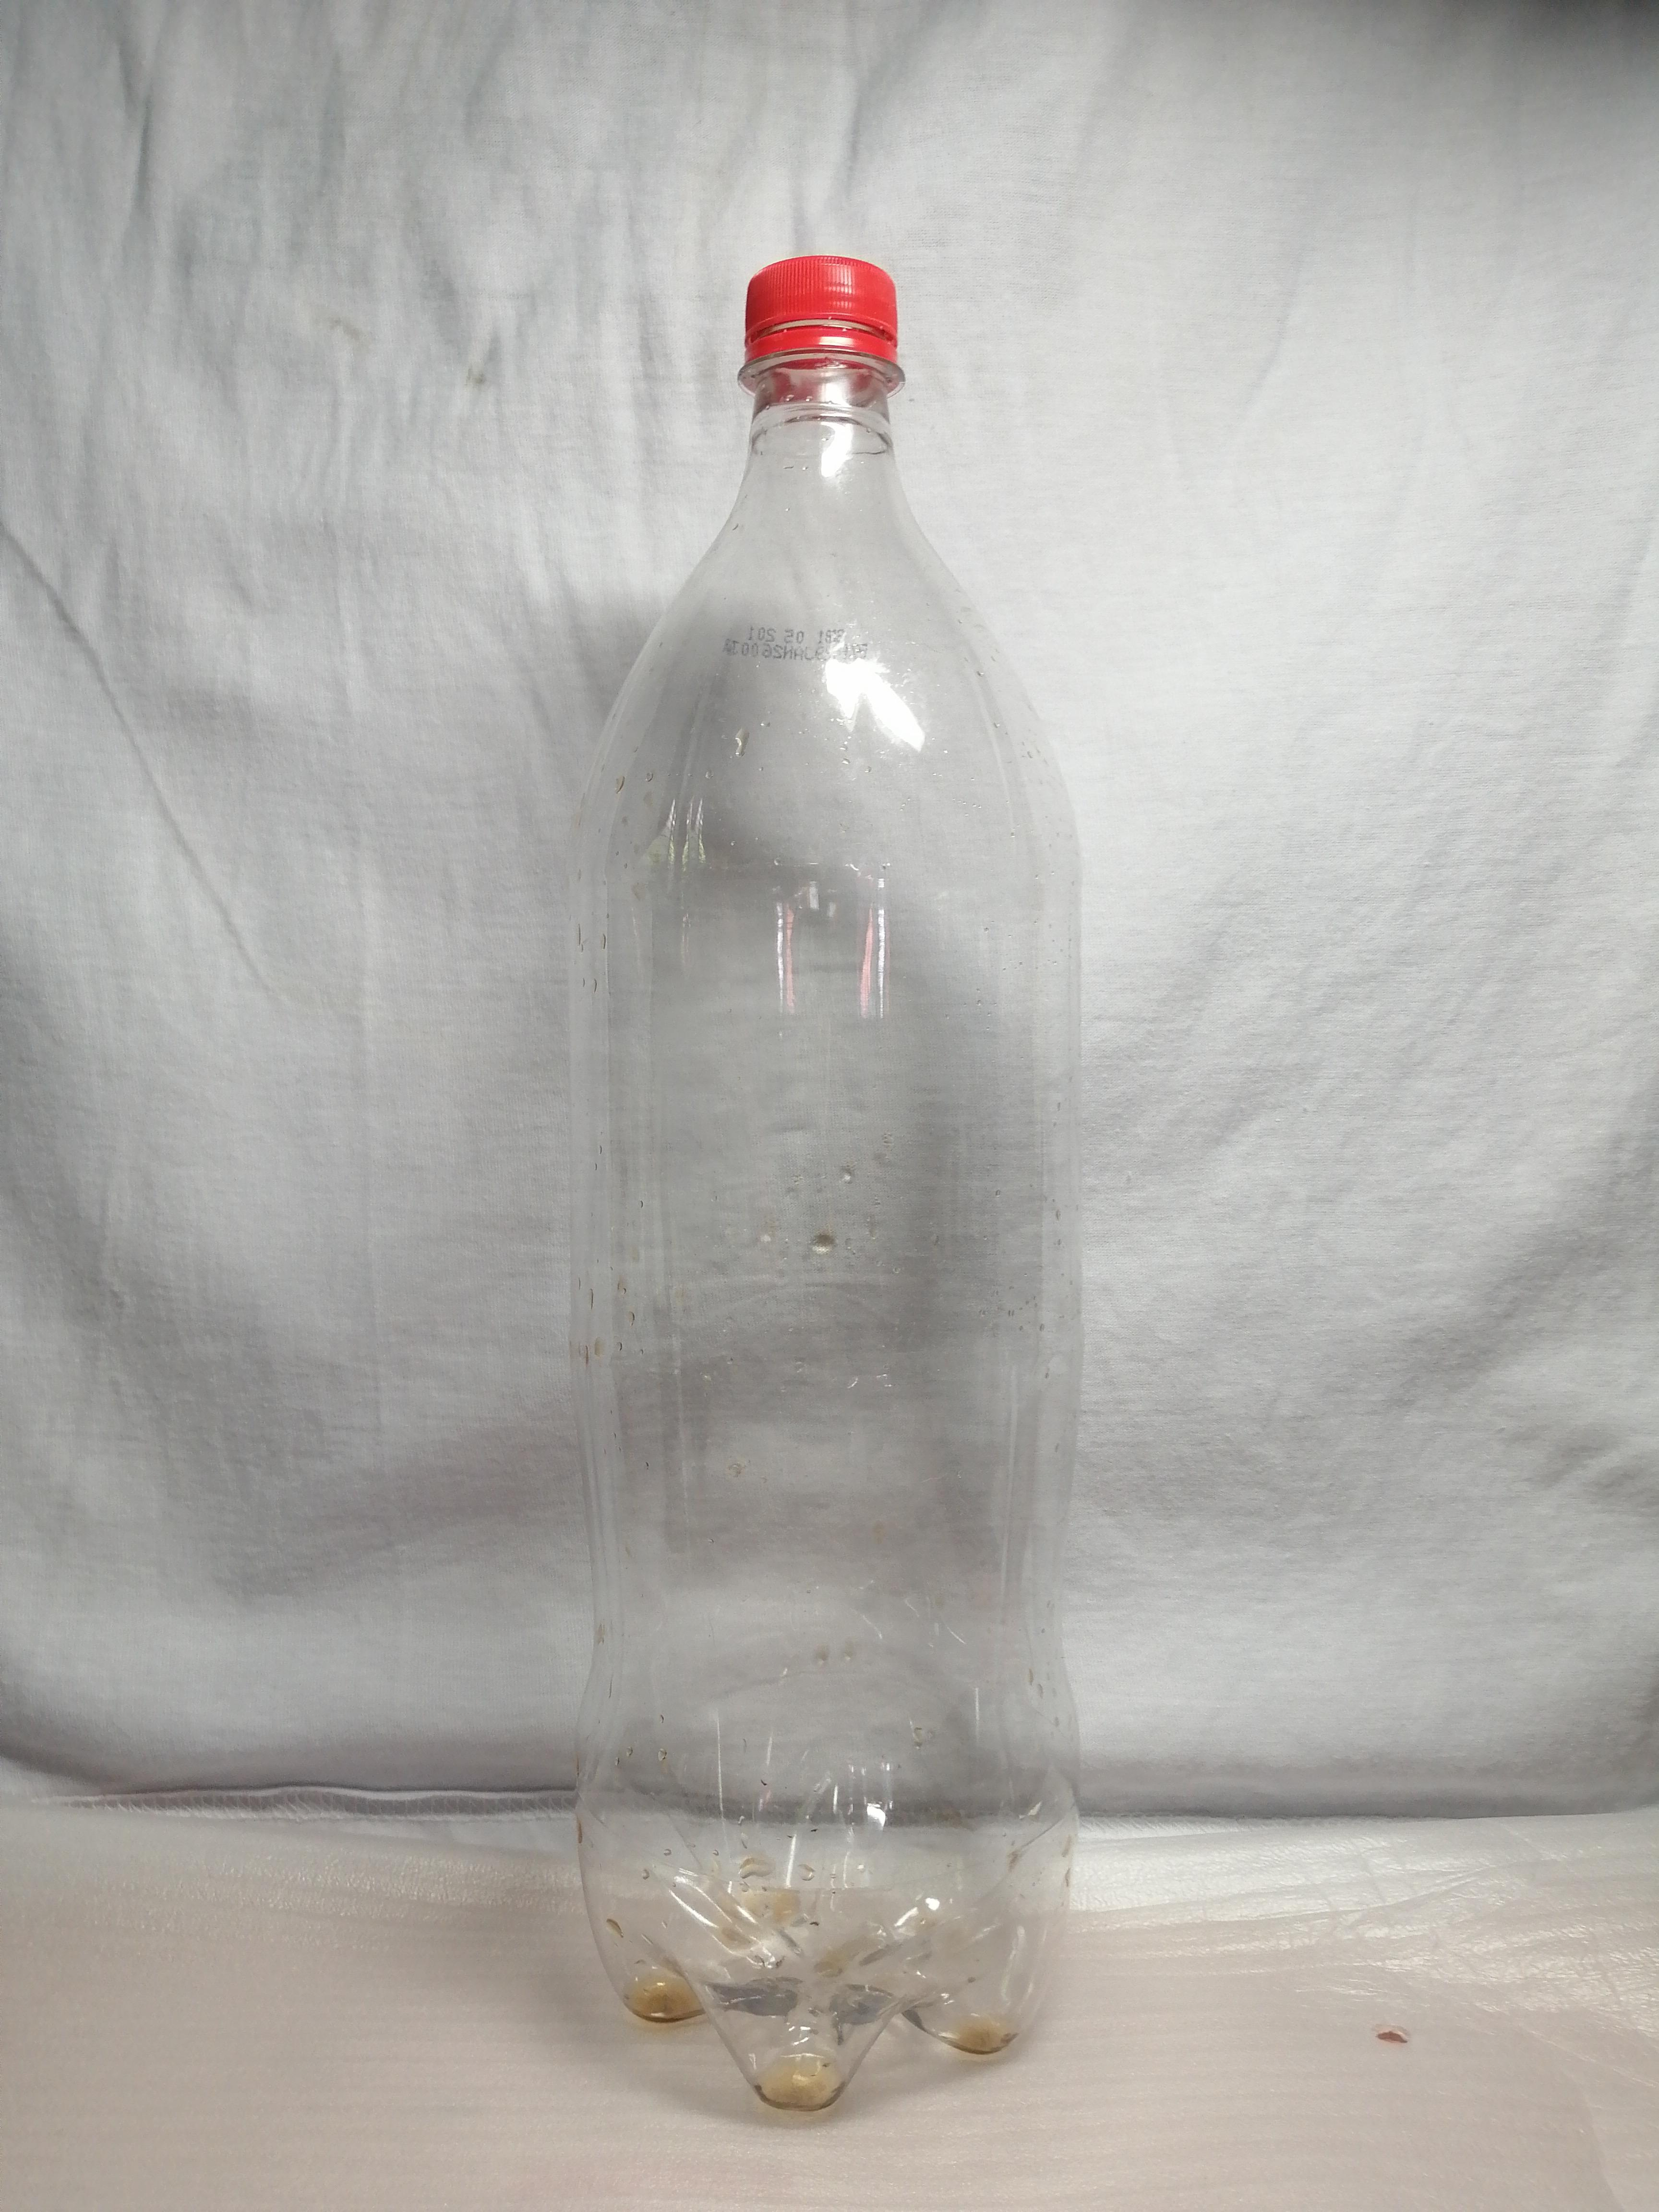plastic-bottle: (547, 211, 1090, 2131)
